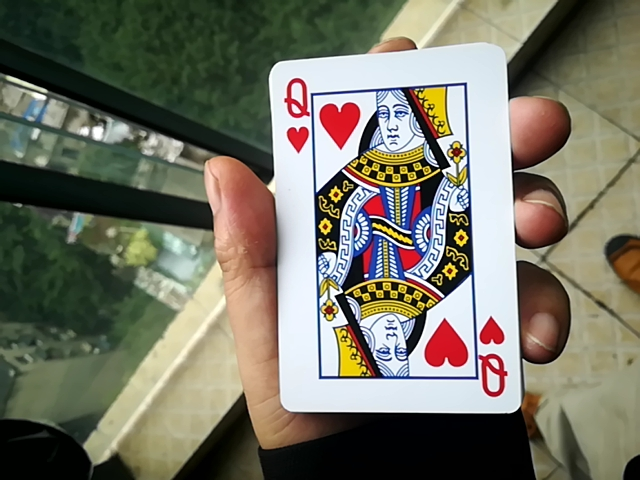hx q: (267, 56, 523, 409)
